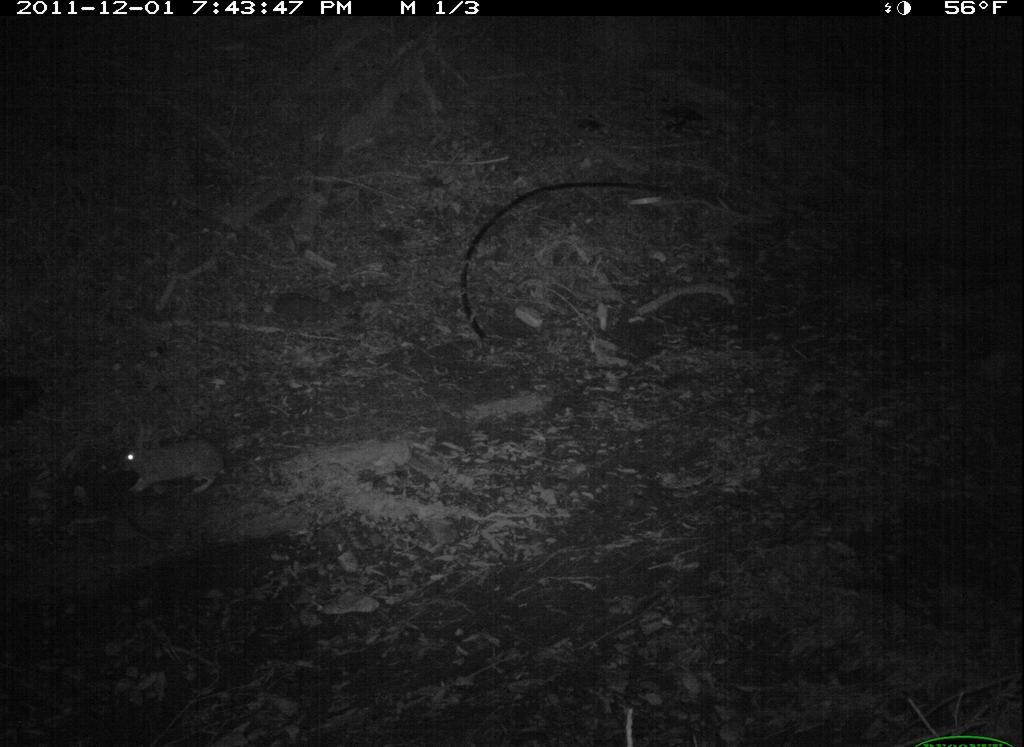rabbit: (108, 434, 233, 504)
